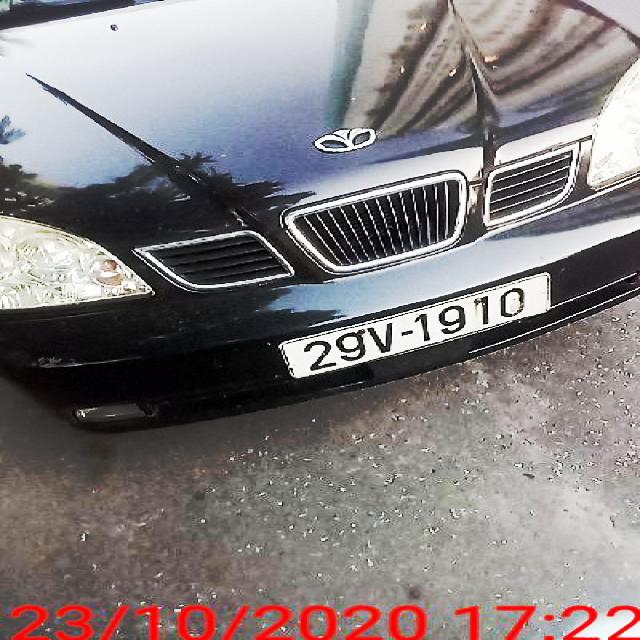license_plate: (283, 274, 551, 380)
